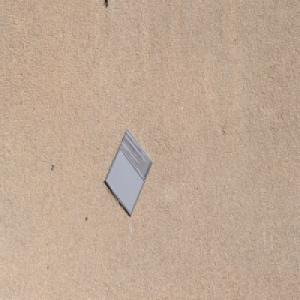PlasticPart: (104, 128, 153, 217)
